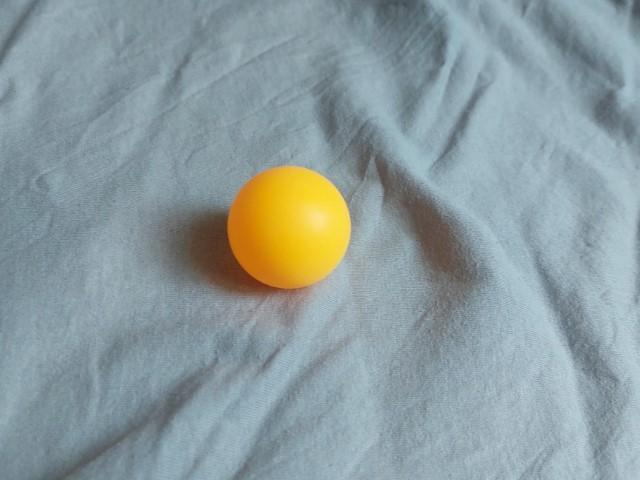oball: (220, 161, 362, 296)
